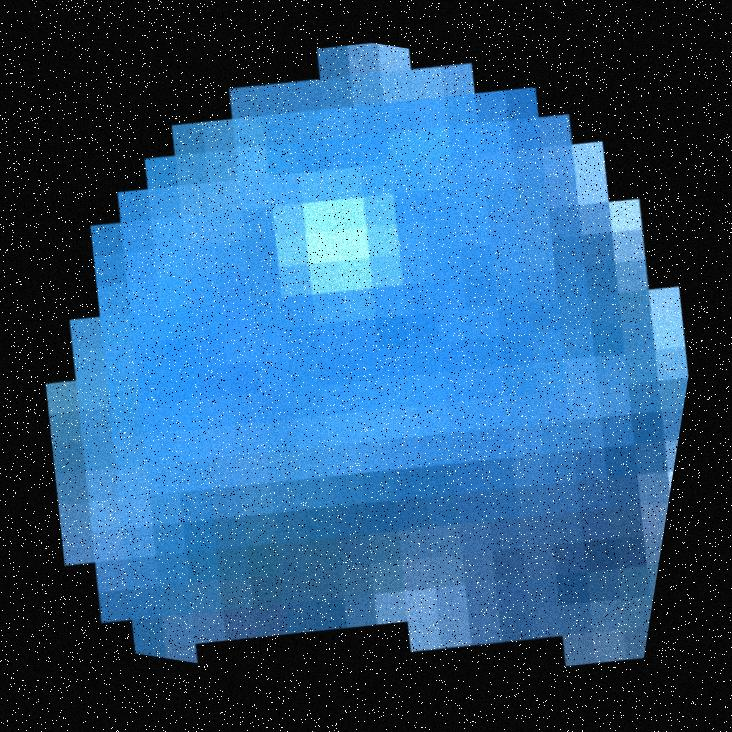Capacete: (152, 0, 731, 731)
